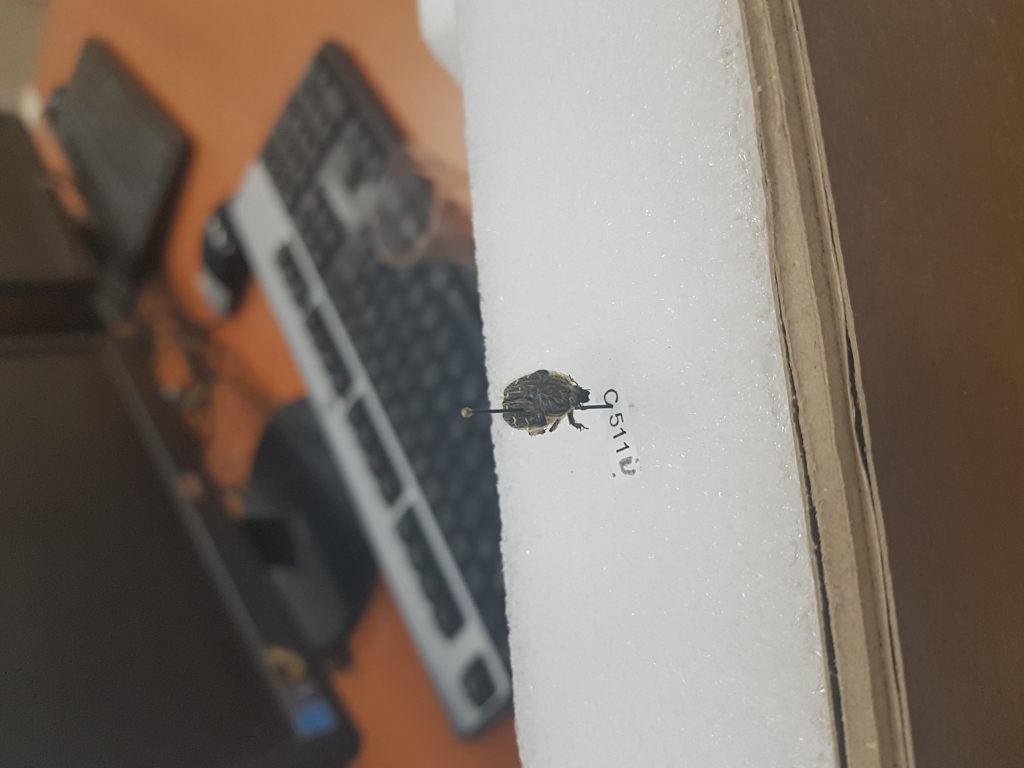Tropinota_senicula: (497, 367, 597, 443)
